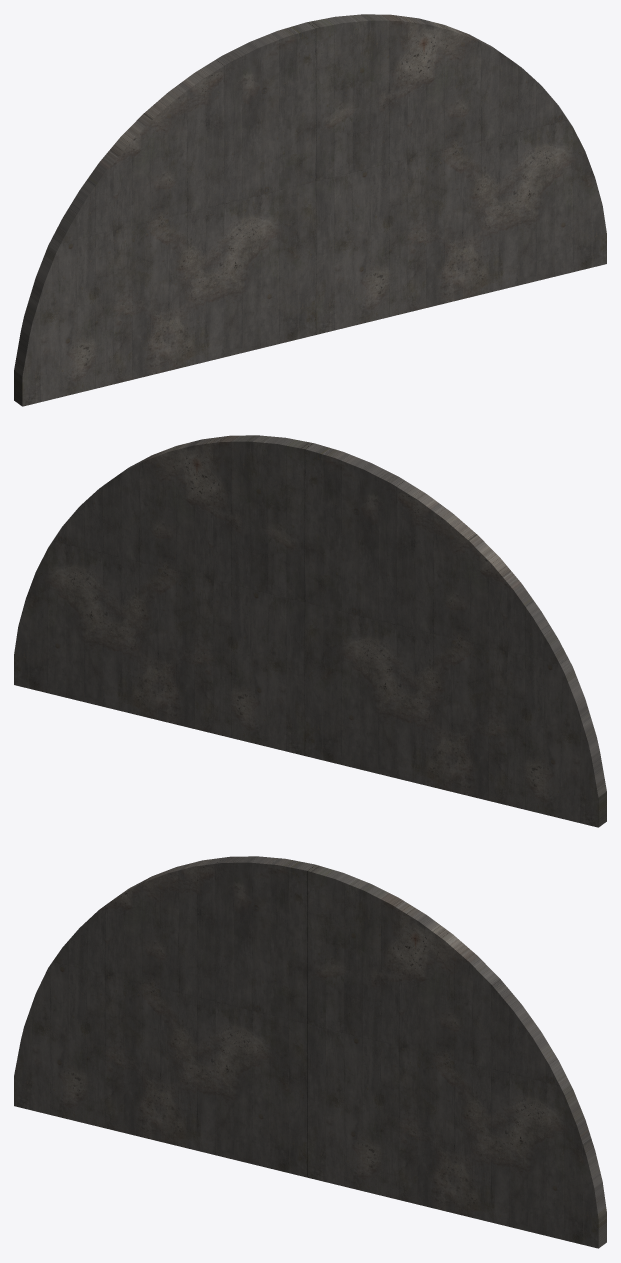
The model's file is msp_tunnel_ceiling_end.fbx.
The picture shows the model from 3 angles, top to bottom: view 1: azimuth 30°, elevation 25°; view 2: azimuth 150°, elevation 25°; view 3: azimuth 330°, elevation 25°; orthographic projection.
Parts seen in each view (by area): view 1: msp_tunnel_ceiling_end; view 2: msp_tunnel_ceiling_end; view 3: msp_tunnel_ceiling_end.
Part boxes in pixels (bbox=[...]): msp_tunnel_ceiling_end: bbox=[14, 14, 606, 406]; msp_tunnel_ceiling_end: bbox=[14, 435, 606, 827]; msp_tunnel_ceiling_end: bbox=[14, 856, 606, 1248].
Bounding box in the file's own units: 7.96 × 3.99 × 0.2.
